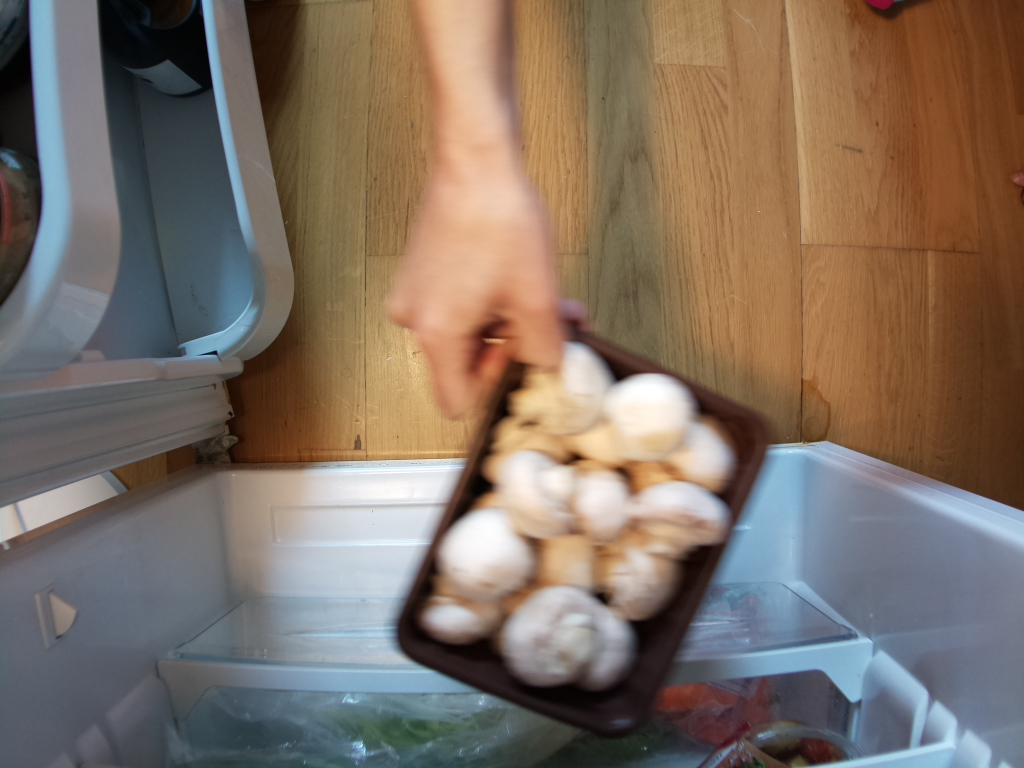mushrooms: (387, 311, 776, 739)
